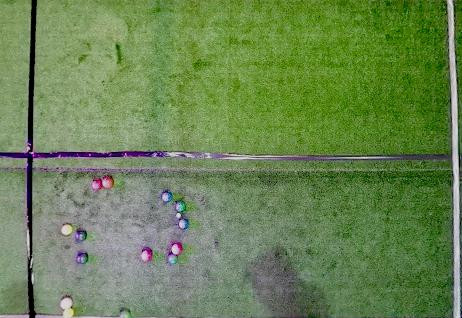blue: (179, 219, 189, 229), (162, 192, 172, 202)
green: (74, 231, 87, 242), (175, 201, 186, 212), (76, 254, 88, 264), (168, 254, 178, 264), (119, 310, 130, 317)
red: (60, 297, 73, 309), (141, 250, 152, 262), (102, 177, 113, 189), (172, 244, 183, 255), (92, 180, 102, 190)
vline: (1, 0, 38, 317), (445, 0, 461, 318)
white: (176, 213, 181, 218)
yellow: (61, 225, 72, 235), (62, 309, 74, 317)
